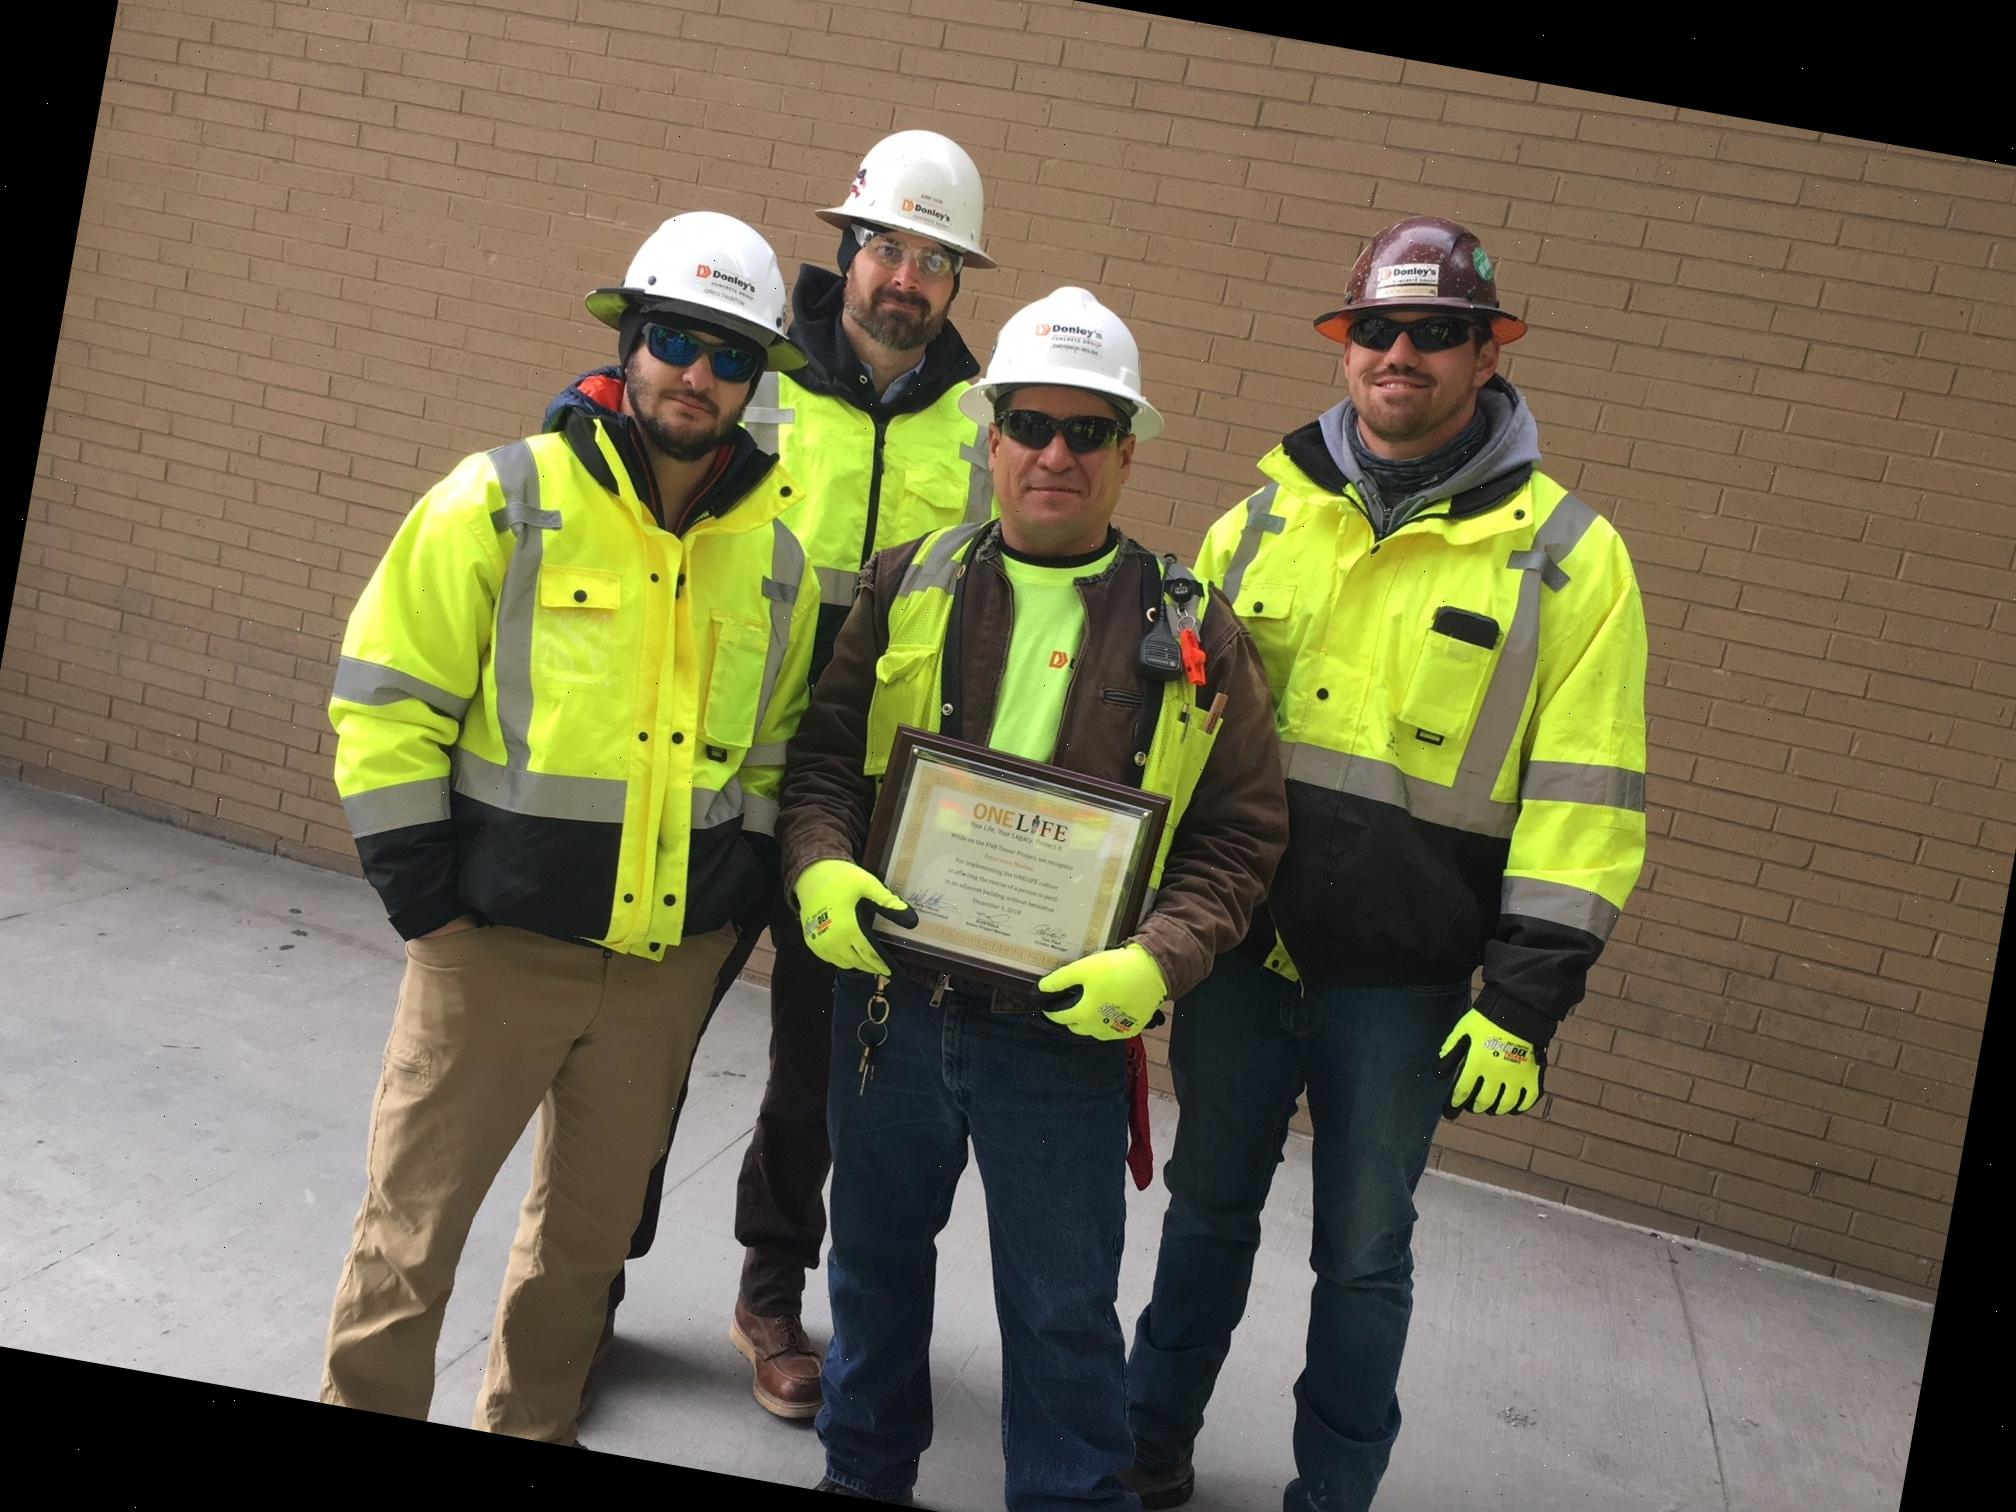helmet: (956, 264, 1202, 446), (583, 187, 822, 364), (1310, 202, 1549, 372), (816, 113, 1032, 278)
wear: (1149, 438, 1635, 1012), (798, 503, 1243, 1028), (391, 426, 822, 959), (738, 311, 1003, 589)
